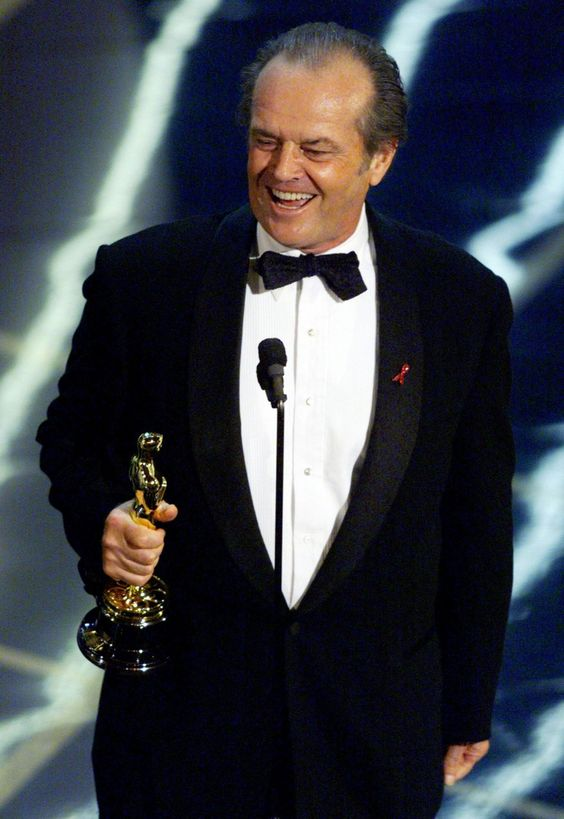hand: (99, 506, 167, 576)
